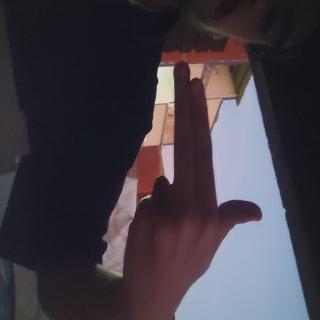GHAYN: (39, 72, 240, 265)
